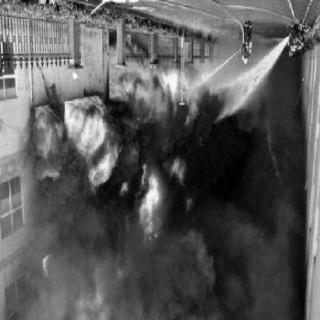Fire: (17, 28, 214, 252), (79, 249, 125, 320), (42, 167, 64, 183), (41, 254, 54, 278)
Smoke: (197, 86, 305, 320), (40, 166, 83, 290), (128, 244, 196, 320)
